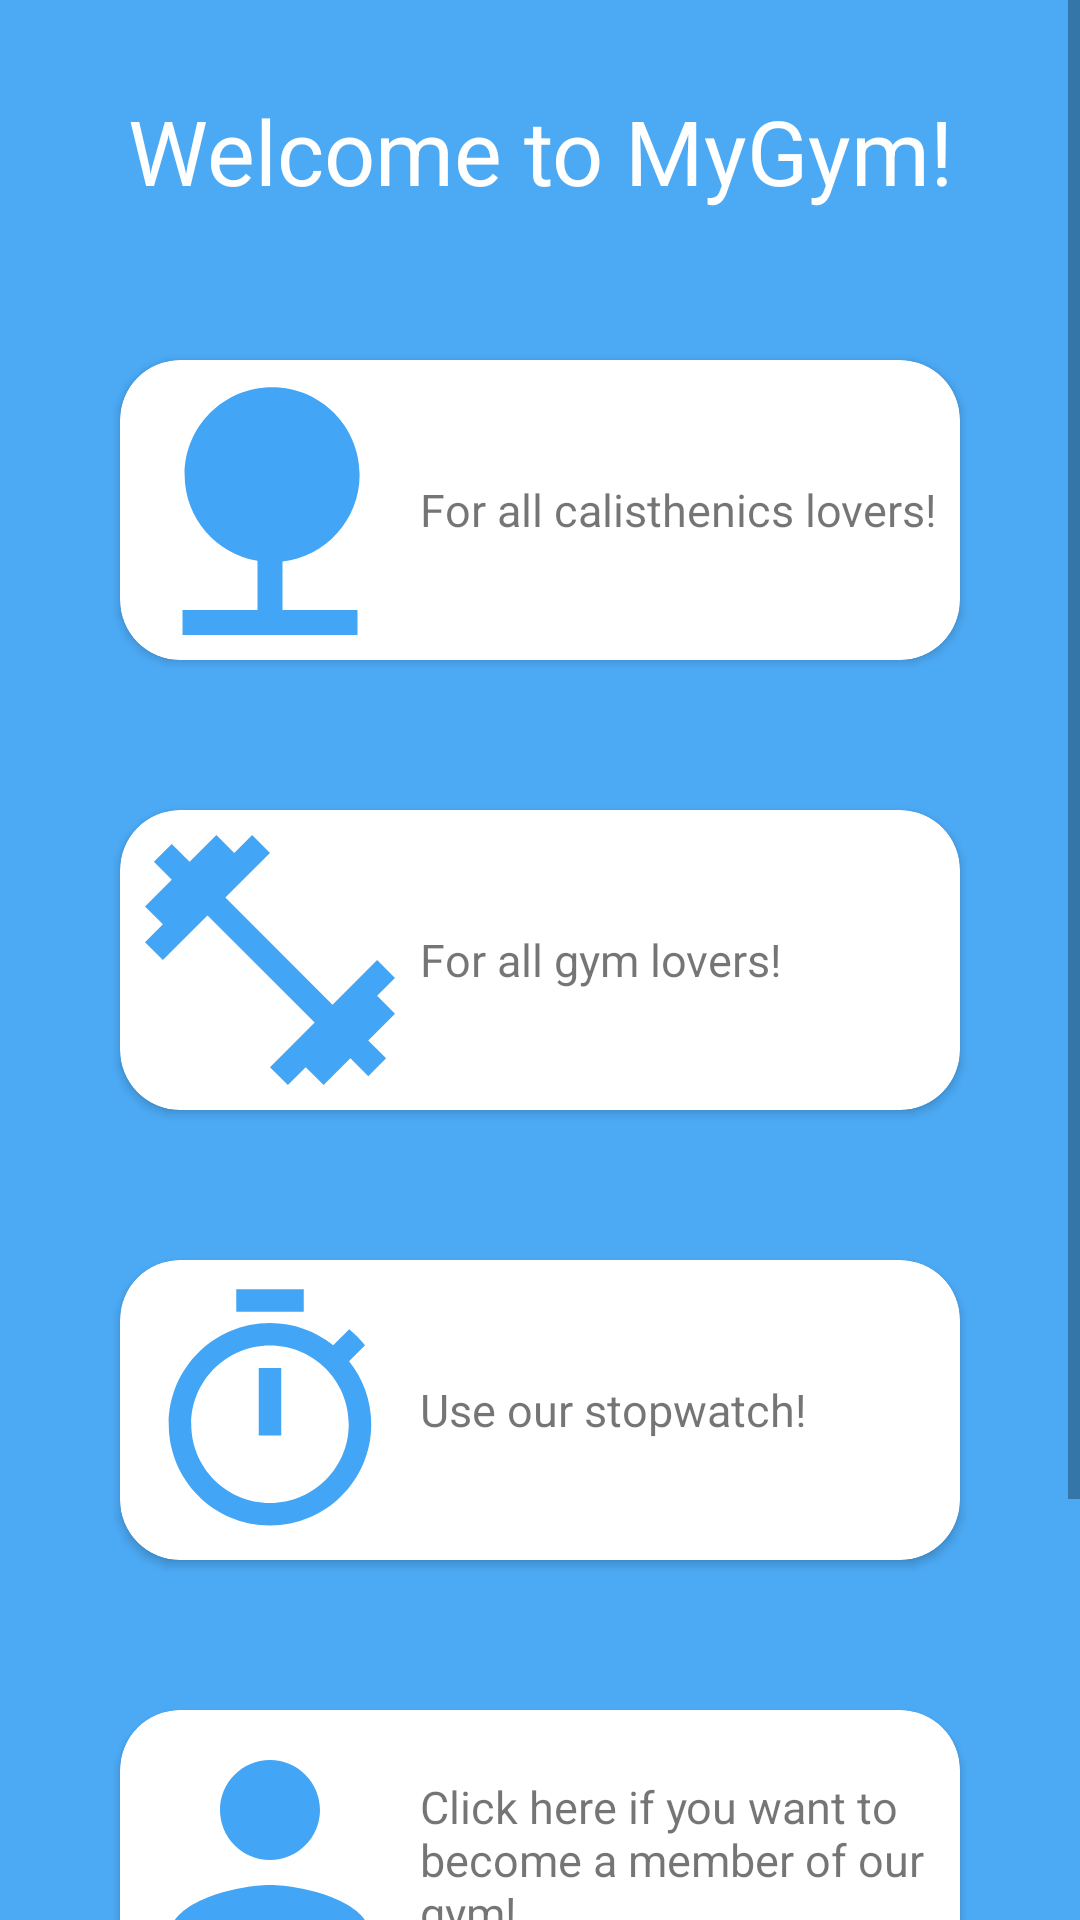

Named icons in this screenshot (1080 x 1920) and their centers, (x,y):
fitness center: (270,960)
nature: (270,510)
timer: (270,1407)
